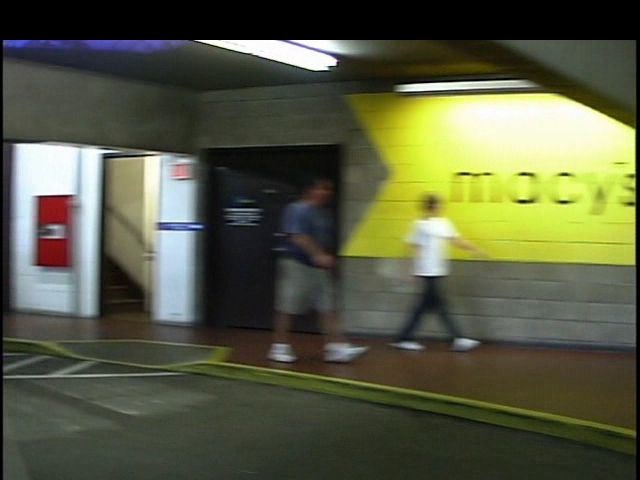person: (250, 169, 350, 367), (377, 184, 465, 361)
